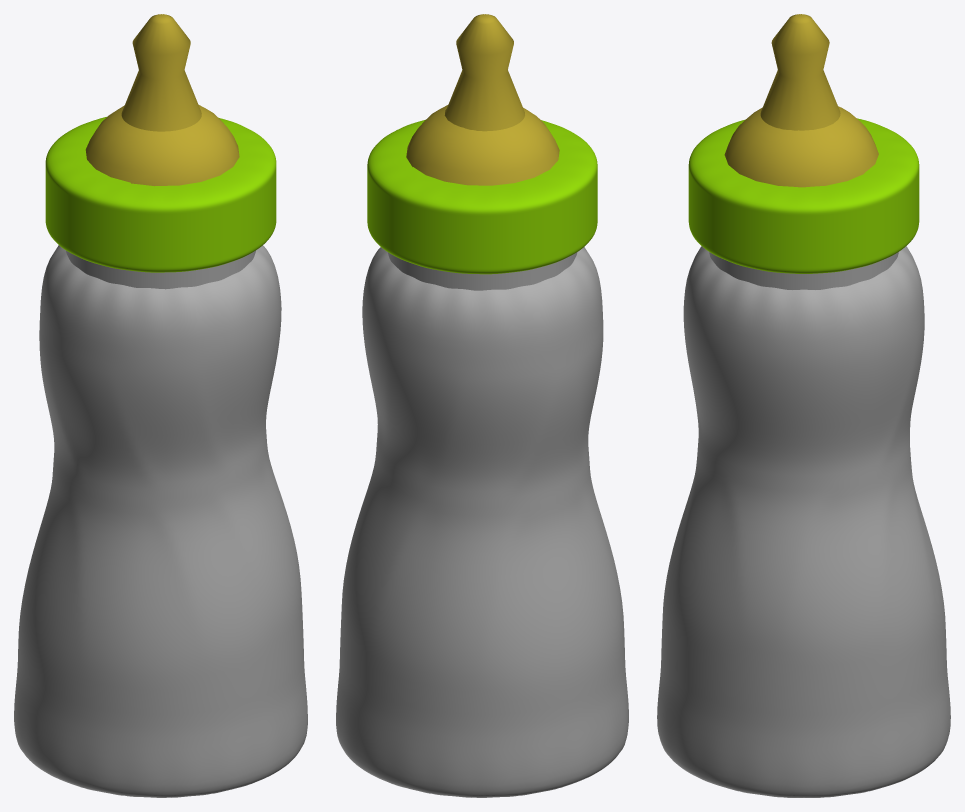
File: Baby_Bottle3.fbx
The picture shows the model from 3 angles, left to right: view 1: azimuth 30°, elevation 25°; view 2: azimuth 150°, elevation 25°; view 3: azimuth 270°, elevation 25°; orthographic projection.
Visible parts, largest first — view 1: pCylinder2, pCylinder1, pSphere2, pCylinder3; view 2: pCylinder2, pCylinder1, pSphere2, pCylinder3; view 3: pCylinder2, pCylinder1, pSphere2, pCylinder3.
Boxes of the visible parts, x1,y1,x2,y2 form: pCylinder2: [14, 245, 307, 797]; pCylinder1: [45, 117, 276, 272]; pSphere2: [85, 14, 239, 186]; pCylinder3: [66, 250, 255, 289]; pCylinder2: [336, 247, 628, 797]; pCylinder1: [367, 120, 597, 274]; pSphere2: [406, 14, 559, 185]; pCylinder3: [387, 252, 577, 290]; pCylinder2: [657, 246, 950, 797]; pCylinder1: [688, 118, 919, 273]; pSphere2: [724, 14, 878, 187]; pCylinder3: [709, 252, 898, 289].
Bounding box in the file's own units: 3.86 × 10.53 × 3.86.
